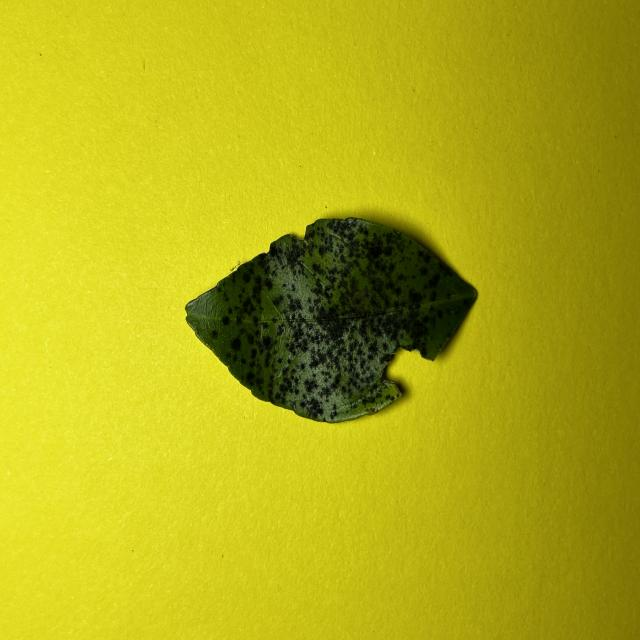sooty_mold: (186, 218, 476, 422)
